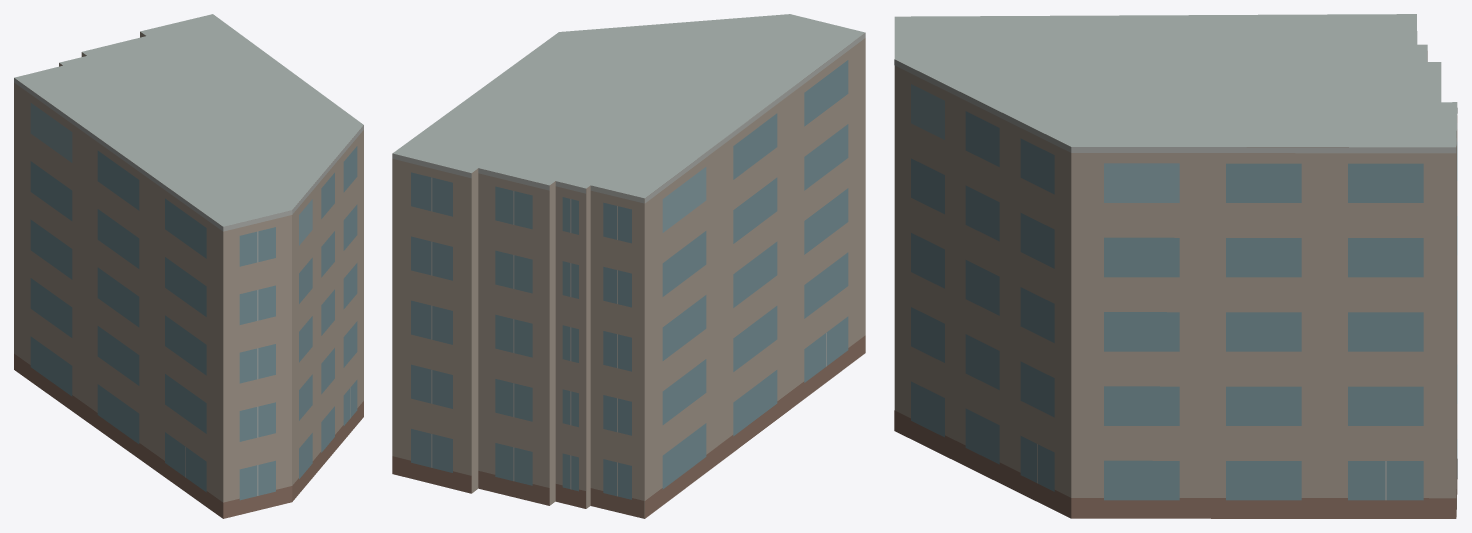
File: survey-upis-32651941.glb
3 renders of one model, left to right at view 1: azimuth 30°, elevation 25°; view 2: azimuth 150°, elevation 25°; view 3: azimuth 270°, elevation 25°, orthographic. The views are drawn at different scales.
Parts seen in each view (by area): view 1: survey-upis-32651941.tmp; view 2: survey-upis-32651941.tmp; view 3: survey-upis-32651941.tmp.
Part boxes in pixels (left/top/right/bottom): survey-upis-32651941.tmp: left=14, top=14, right=363, bottom=518; survey-upis-32651941.tmp: left=392, top=14, right=865, bottom=518; survey-upis-32651941.tmp: left=894, top=14, right=1457, bottom=518.
Bounding box in the file's own units: 11.5 × 14.95 × 20.53.
